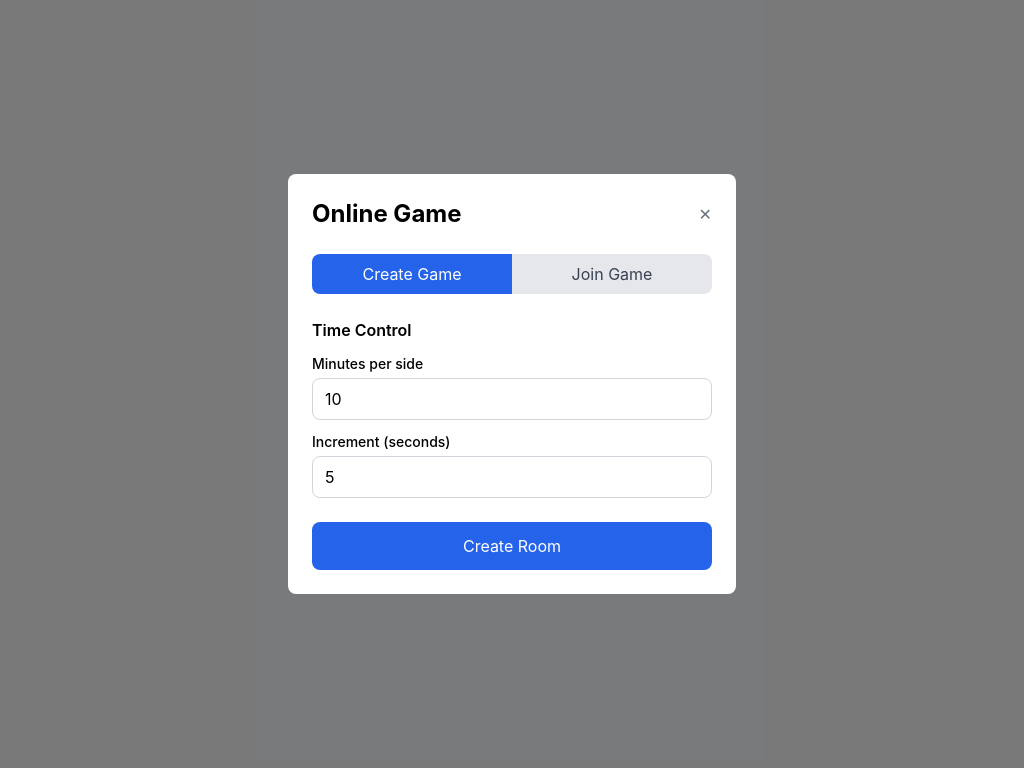
Scenario: OnlineGameModal Component › should show error broadcast from the socket when a join fails
// Switch to join mode
Click the button "Join Game" at (612, 274), box top-left (512, 254), bottom-right (712, 294)
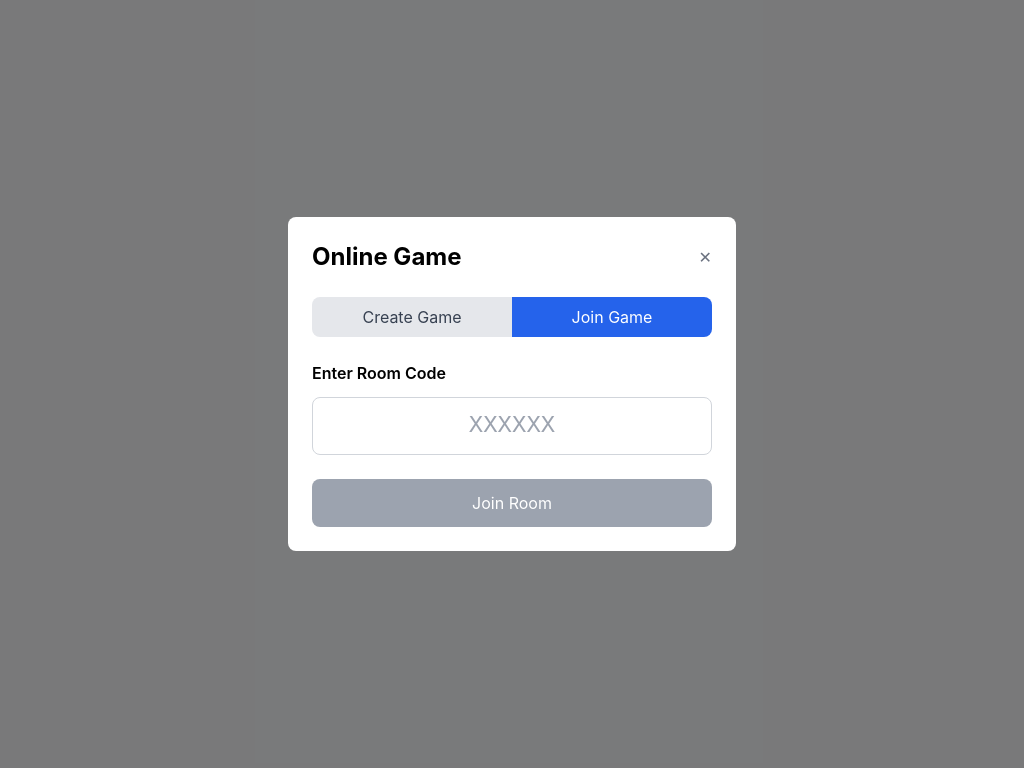
// Enter room code
Type "WRONG1" into the field with placeholder "XXXXXX" at (512, 426), box top-left (312, 397), bottom-right (712, 455)
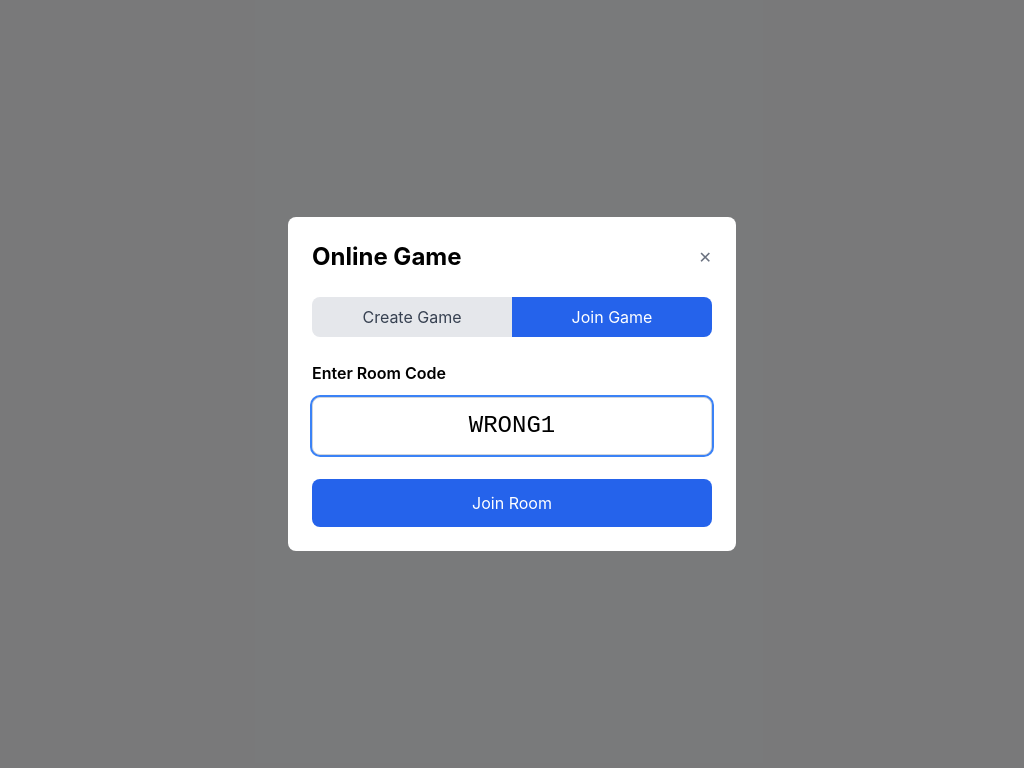
// Click join (delegates to the socket layer)
Click the button "Join Room" at (512, 503), box top-left (312, 479), bottom-right (712, 527)
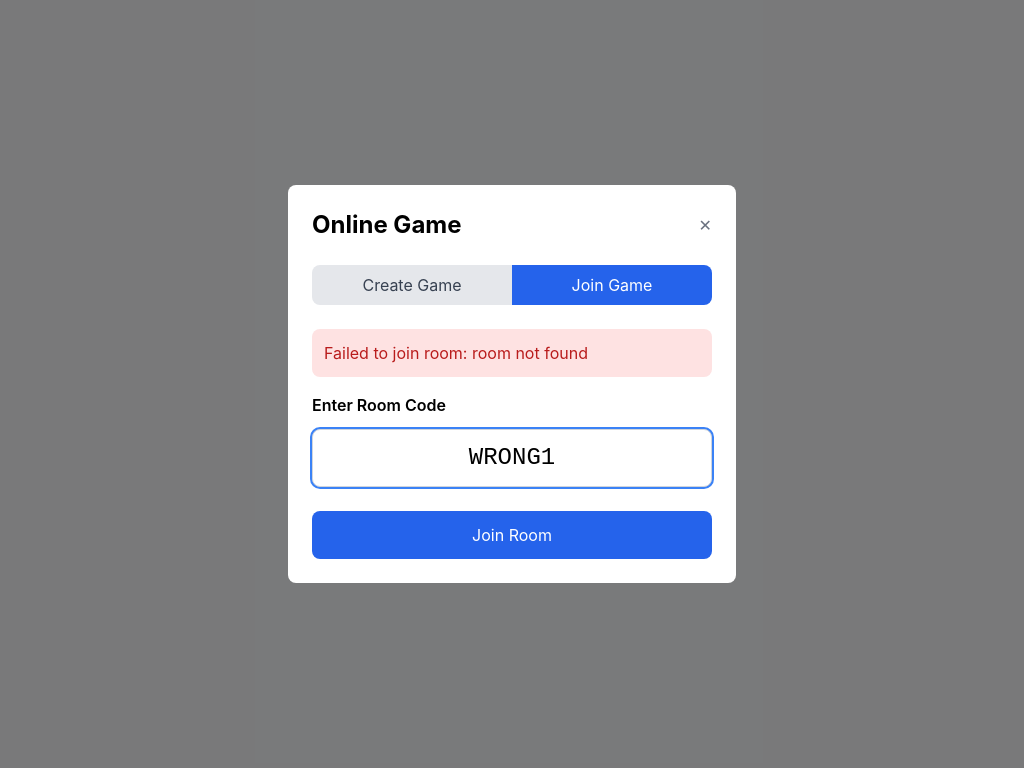
Expected: the text "Failed to join room: room not found" is shown, top-left (312, 329), bottom-right (712, 377)
